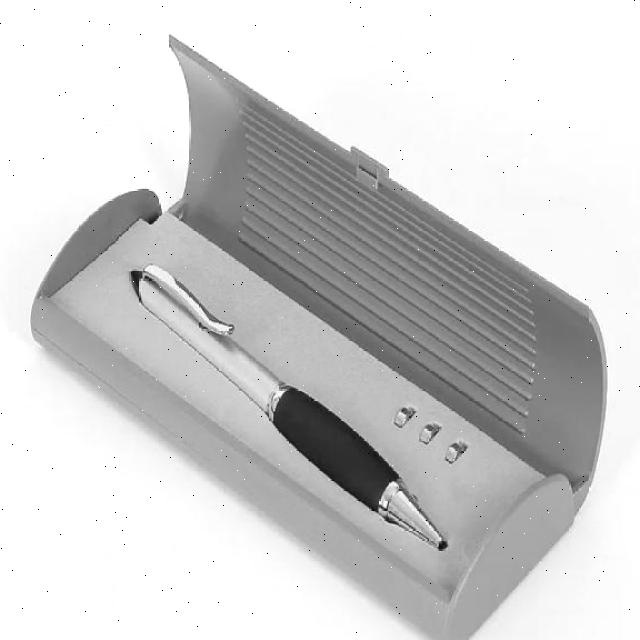pencil: (118, 257, 466, 559)
